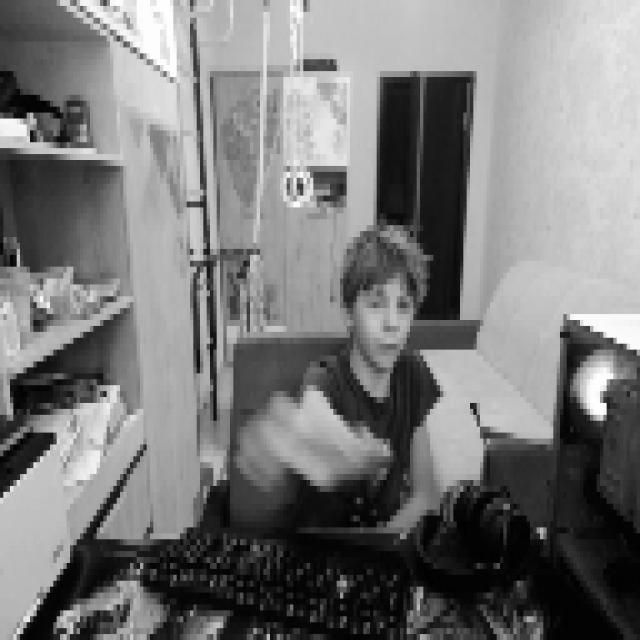hand: (234, 373, 384, 486)
